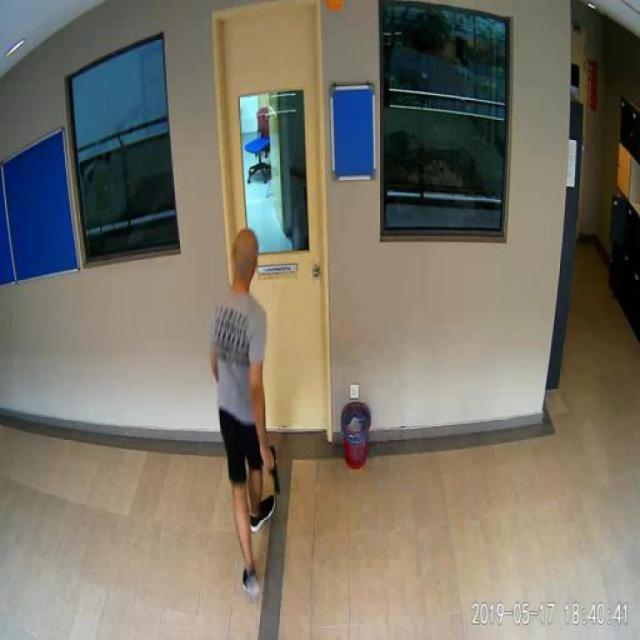pistol: (261, 443, 278, 492)
